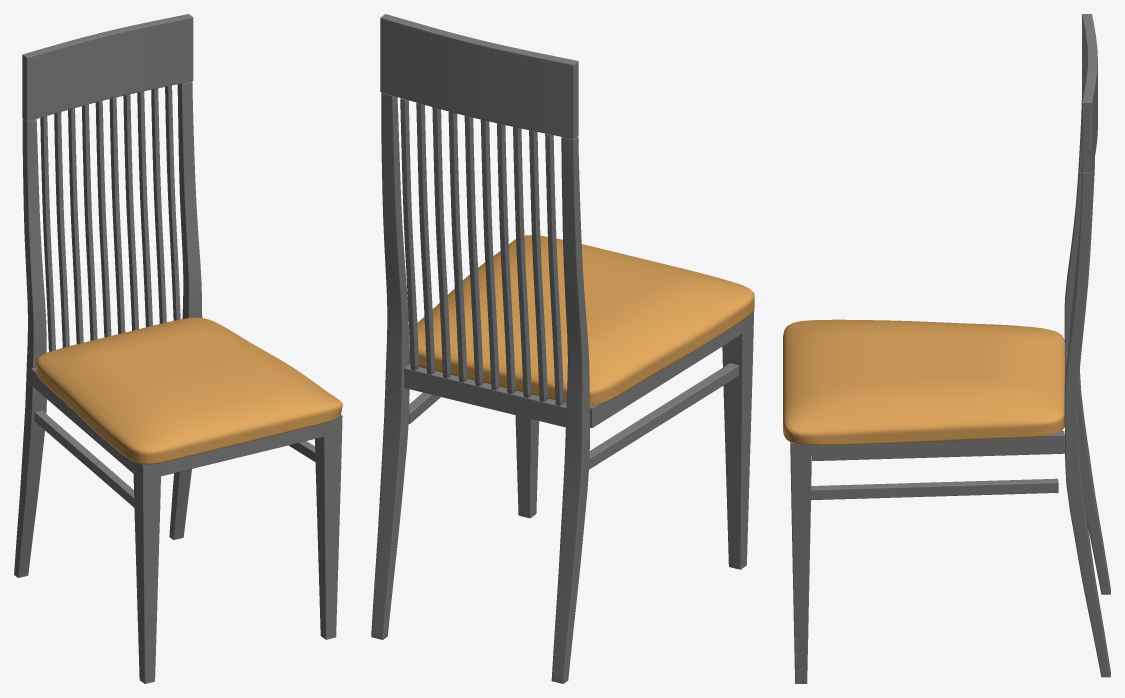
The model's file is Chair Almera.FBX.
3 renders of one model, left to right at view 1: azimuth 30°, elevation 25°; view 2: azimuth 150°, elevation 25°; view 3: azimuth 270°, elevation 25°, orthographic. The views are drawn at different scales.
Visible parts, largest first — view 1: x07; view 2: x07; view 3: x07.
Boxes of the visible parts, x1,y1,x2,y2 form: x07: [14, 14, 342, 683]; x07: [371, 14, 754, 683]; x07: [783, 14, 1110, 683].
Size of the model in its own units: 435 by 1052 by 543.
